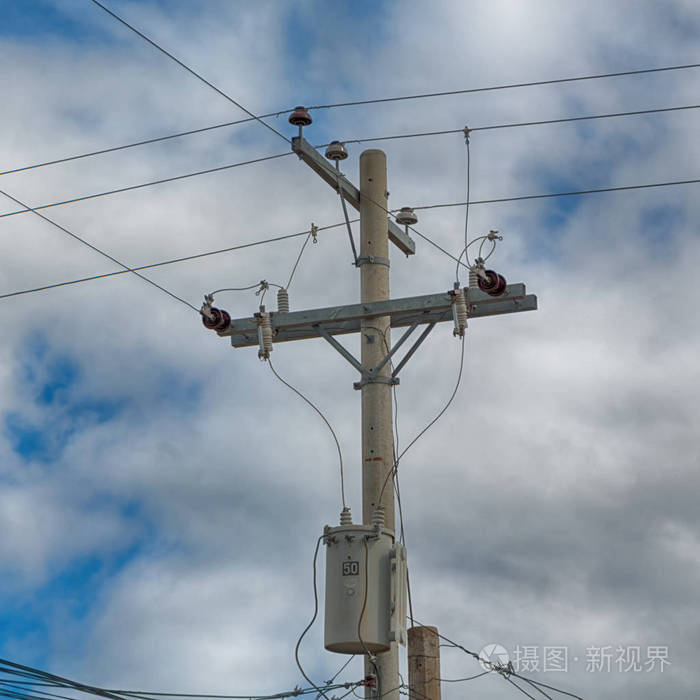insulator: (476, 268, 510, 295), (201, 307, 231, 333)
